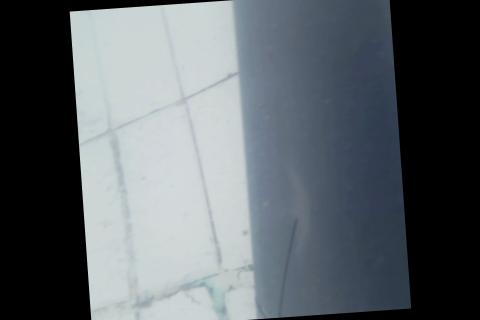keretakan: (250, 214, 306, 319)
